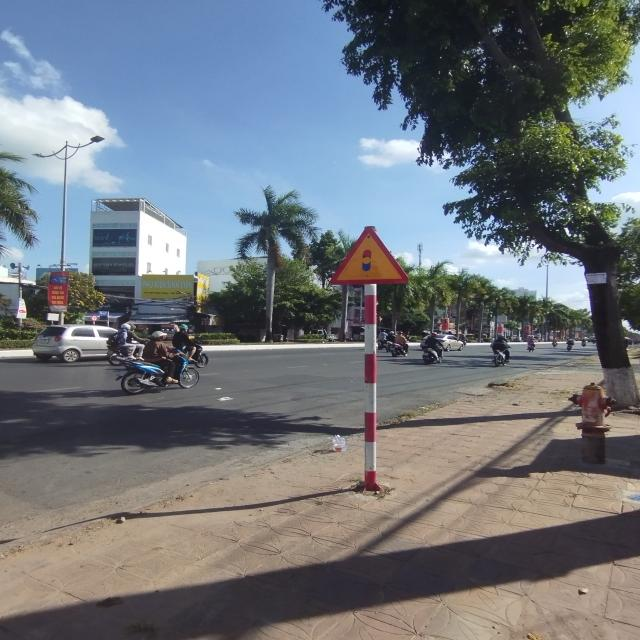Duong_Co_Go_Giam_Toc: (330, 226, 410, 287)
